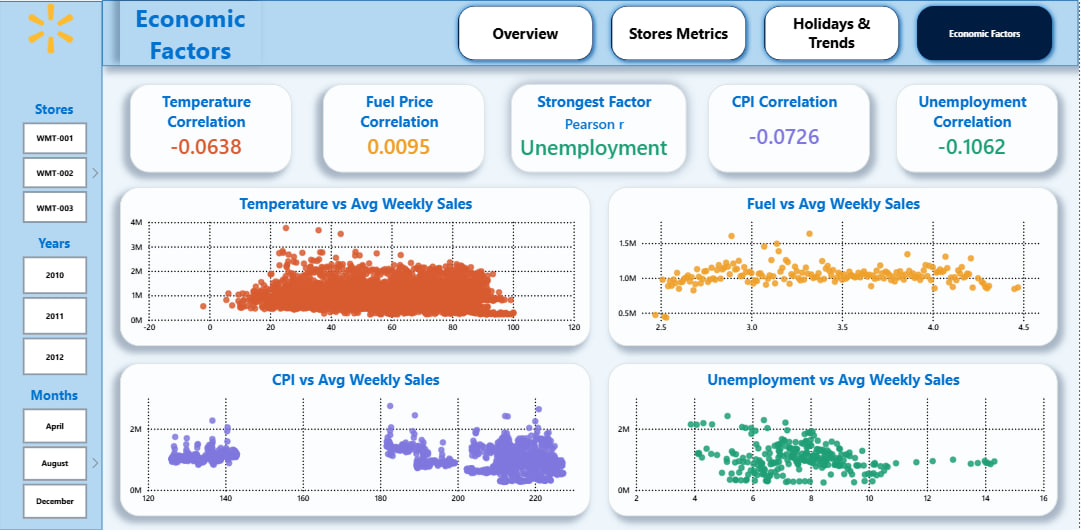

This screenshot's page, from the dashboard's own definition file:
{"tool":"powerbi","page":{"name":"Economic Factors","canvas":[1650,810],"ordinal":3},"visuals":[{"type":"shape","title":"Walmart Stores Analytical Dashboard","box":[157.9,0,1492.1,101.1],"z":0},{"type":"shape","box":[0,1,157.9,809],"z":1000},{"type":"image","box":[0,0,157.9,86.9],"z":2000},{"type":"slicer","title":"Years","fields":{"Values":["Walmart_Sales.Year"]},"box":[0,357.7,158.5,217.5],"z":3000},{"type":"slicer","title":"Months","fields":{"Values":["Calendar.Month_Name"]},"box":[0,589.9,158.5,204.6],"z":4000},{"type":"slicer","title":"Stores","fields":{"Values":["Walmart_Sales.Store_ID"]},"box":[0,153,158.5,189.9],"z":5000},{"type":"pageNavigator","box":[691.9,0,926.1,101.1],"z":6000},{"type":"textbox","title":"Economic Factors","box":[184.5,1.8,214.7,99.4],"z":7000},{"type":"card","title":"Temperature Correlation","fields":{"Values":["Walmart_Sales.Corr Temperature vs Sales"]},"box":[200.5,127.7,246.6,134.8],"z":8000},{"type":"card","title":"Fuel Price Correlation","fields":{"Values":["Walmart_Sales.Corr Fuel vs Sales"]},"box":[495,127.7,246.6,134.8],"z":9000},{"type":"card","title":"Strongest Factor","fields":{"Values":["Walmart_Sales.Strongest Factor"]},"box":[782.4,127.7,267.9,134.8],"z":10000},{"type":"card","title":"CPI Correlation","fields":{"Values":["Walmart_Sales.Corr CPI vs Sales"]},"box":[1084,127.7,246.6,134.8],"z":11000},{"type":"card","title":"Unemployment Correlation","fields":{"Values":["Walmart_Sales.Corr Unemployment vs Sales"]},"box":[1371.5,127.7,246.6,134.8],"z":12000},{"type":"scatterChart","title":"Temperature vs Avg  Weekly Sales","fields":{"Y":["Avg(Walmart_Sales.Weekly_Sales)"],"X":["Walmart_Sales.Temperature"]},"box":[184.5,285.6,718.5,243.1],"z":13000},{"type":"scatterChart","title":"CPI vs Avg Weekly Sales","fields":{"Y":["Avg(Walmart_Sales.Weekly_Sales)"],"X":["Walmart_Sales.CPI"]},"box":[184.5,555.3,718.5,234.2],"z":14000},{"type":"scatterChart","title":"Unemployment vs Avg Weekly Sales","fields":{"Y":["Avg(Walmart_Sales.Weekly_Sales)"],"X":["Walmart_Sales.Unemployment"]},"box":[931.5,555.3,686.6,234.2],"z":15000},{"type":"scatterChart","title":"Fuel vs Avg Weekly Sales","fields":{"X":["Walmart_Sales.Fuel_Price"],"Y":["Avg(Walmart_Sales.Weekly_Sales)"]},"box":[931.5,285.6,686.6,243.1],"z":16000}]}

Visuals, with their boxes in screenshot pixels (x1, y1, x2, y2), scaled from the page's 1650x810 canvas onto the 1081x531 screenshot:
"Walmart Stores Analytical Dashboard" shape: [left=103, top=0, right=1080, bottom=66]
shape: [left=0, top=1, right=103, bottom=530]
image: [left=0, top=0, right=103, bottom=57]
"Years" slicer: [left=0, top=234, right=104, bottom=377]
"Months" slicer: [left=0, top=387, right=104, bottom=521]
"Stores" slicer: [left=0, top=100, right=104, bottom=225]
pageNavigator: [left=453, top=0, right=1060, bottom=66]
"Economic Factors" textbox: [left=121, top=1, right=262, bottom=66]
"Temperature Correlation" card: [left=131, top=84, right=293, bottom=172]
"Fuel Price Correlation" card: [left=324, top=84, right=486, bottom=172]
"Strongest Factor" card: [left=513, top=84, right=688, bottom=172]
"CPI Correlation" card: [left=710, top=84, right=872, bottom=172]
"Unemployment Correlation" card: [left=899, top=84, right=1060, bottom=172]
"Temperature vs Avg  Weekly Sales" scatterChart: [left=121, top=187, right=592, bottom=347]
"CPI vs Avg Weekly Sales" scatterChart: [left=121, top=364, right=592, bottom=518]
"Unemployment vs Avg Weekly Sales" scatterChart: [left=610, top=364, right=1060, bottom=518]
"Fuel vs Avg Weekly Sales" scatterChart: [left=610, top=187, right=1060, bottom=347]
